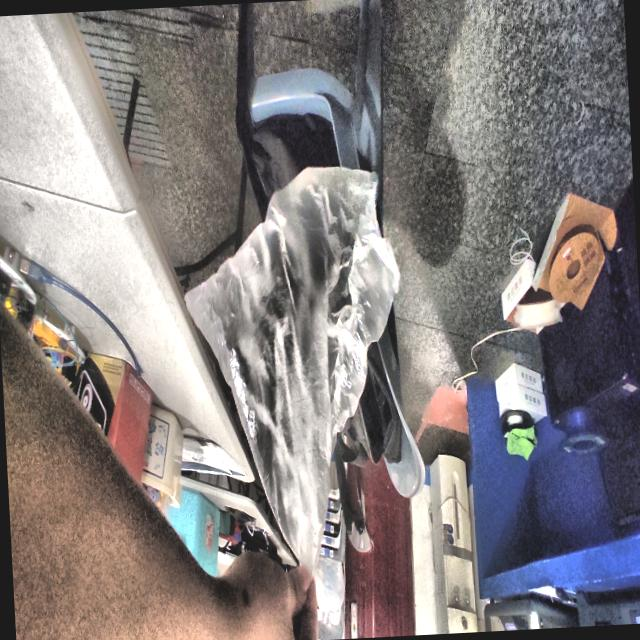plastic bag: (186, 167, 400, 572)
